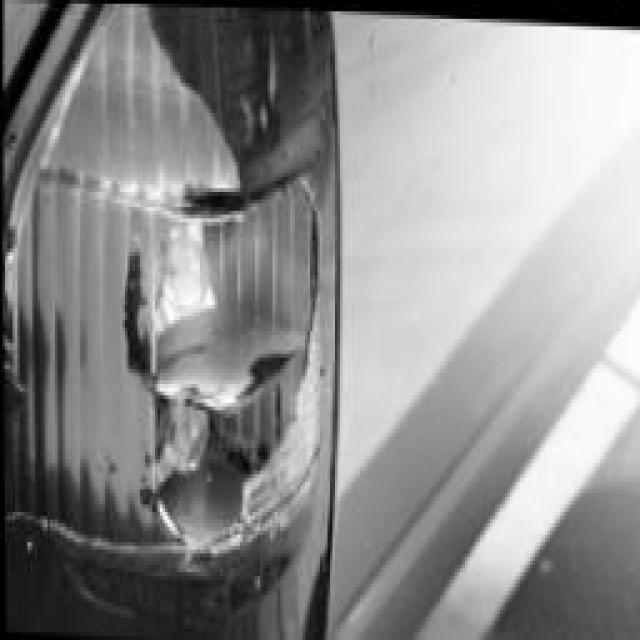Light: (25, 0, 332, 639)
